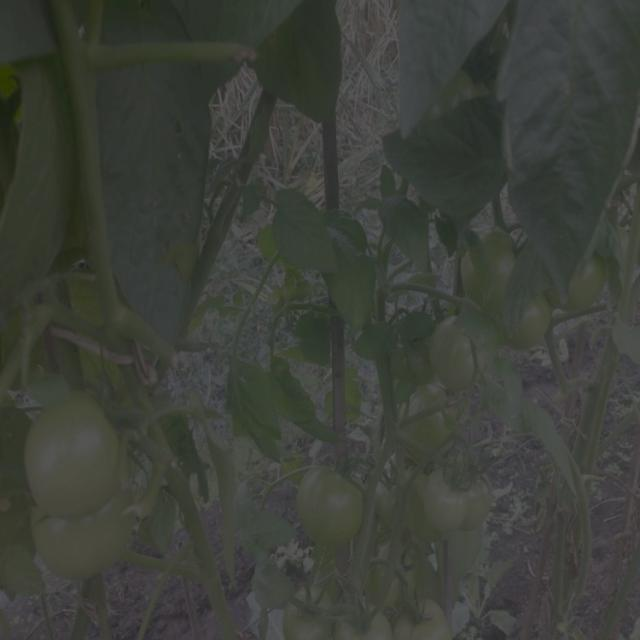tomato: (27, 396, 121, 515), (40, 502, 137, 571), (298, 461, 367, 542), (433, 311, 491, 382), (414, 464, 473, 533), (460, 230, 505, 303), (395, 590, 456, 640), (508, 288, 552, 350), (561, 261, 612, 313), (285, 594, 342, 640), (329, 597, 383, 640)
